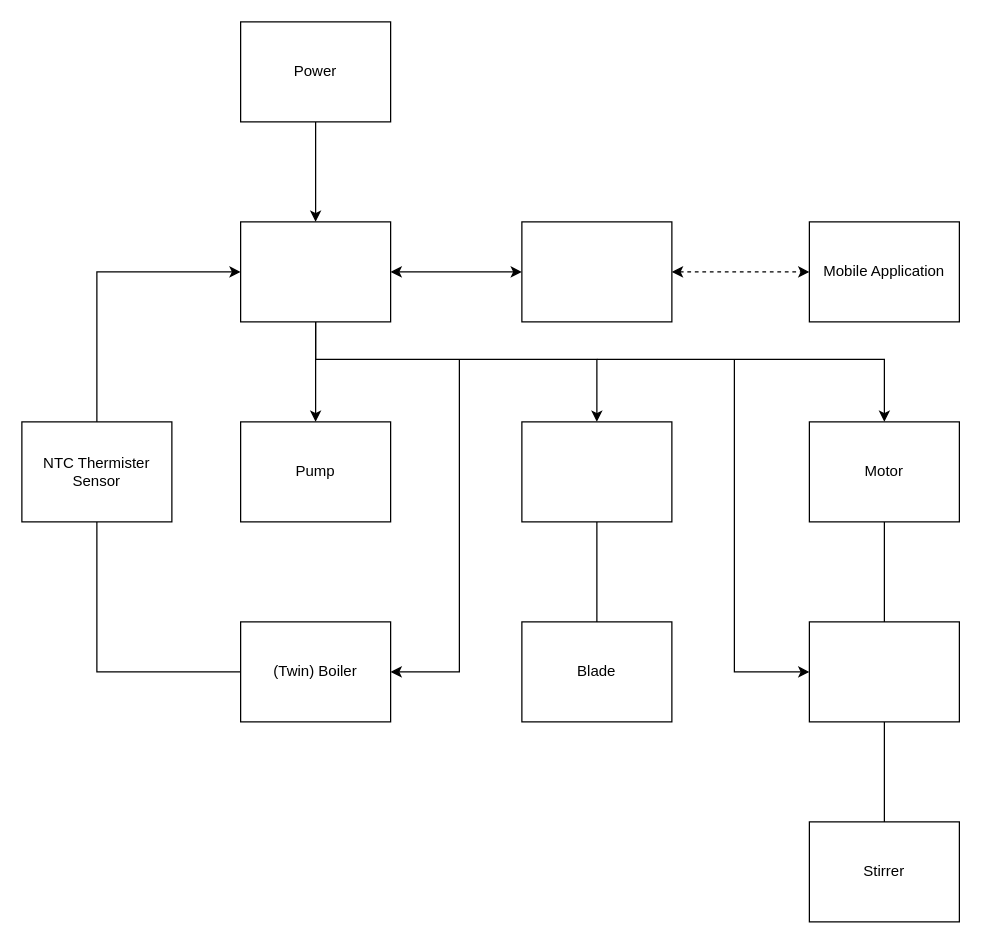
Some shapes in this 981 by 944 pixel diagram are drawn without their labels. Here are the shapes that lost their labels. From the top down, the box of each, then its label:
(239, 221, 391, 322): Microprocessor
(521, 221, 672, 322): Wireless Antenna
(521, 421, 672, 522): 230V Motor
(808, 621, 959, 722): 24V Stirrer Motor
